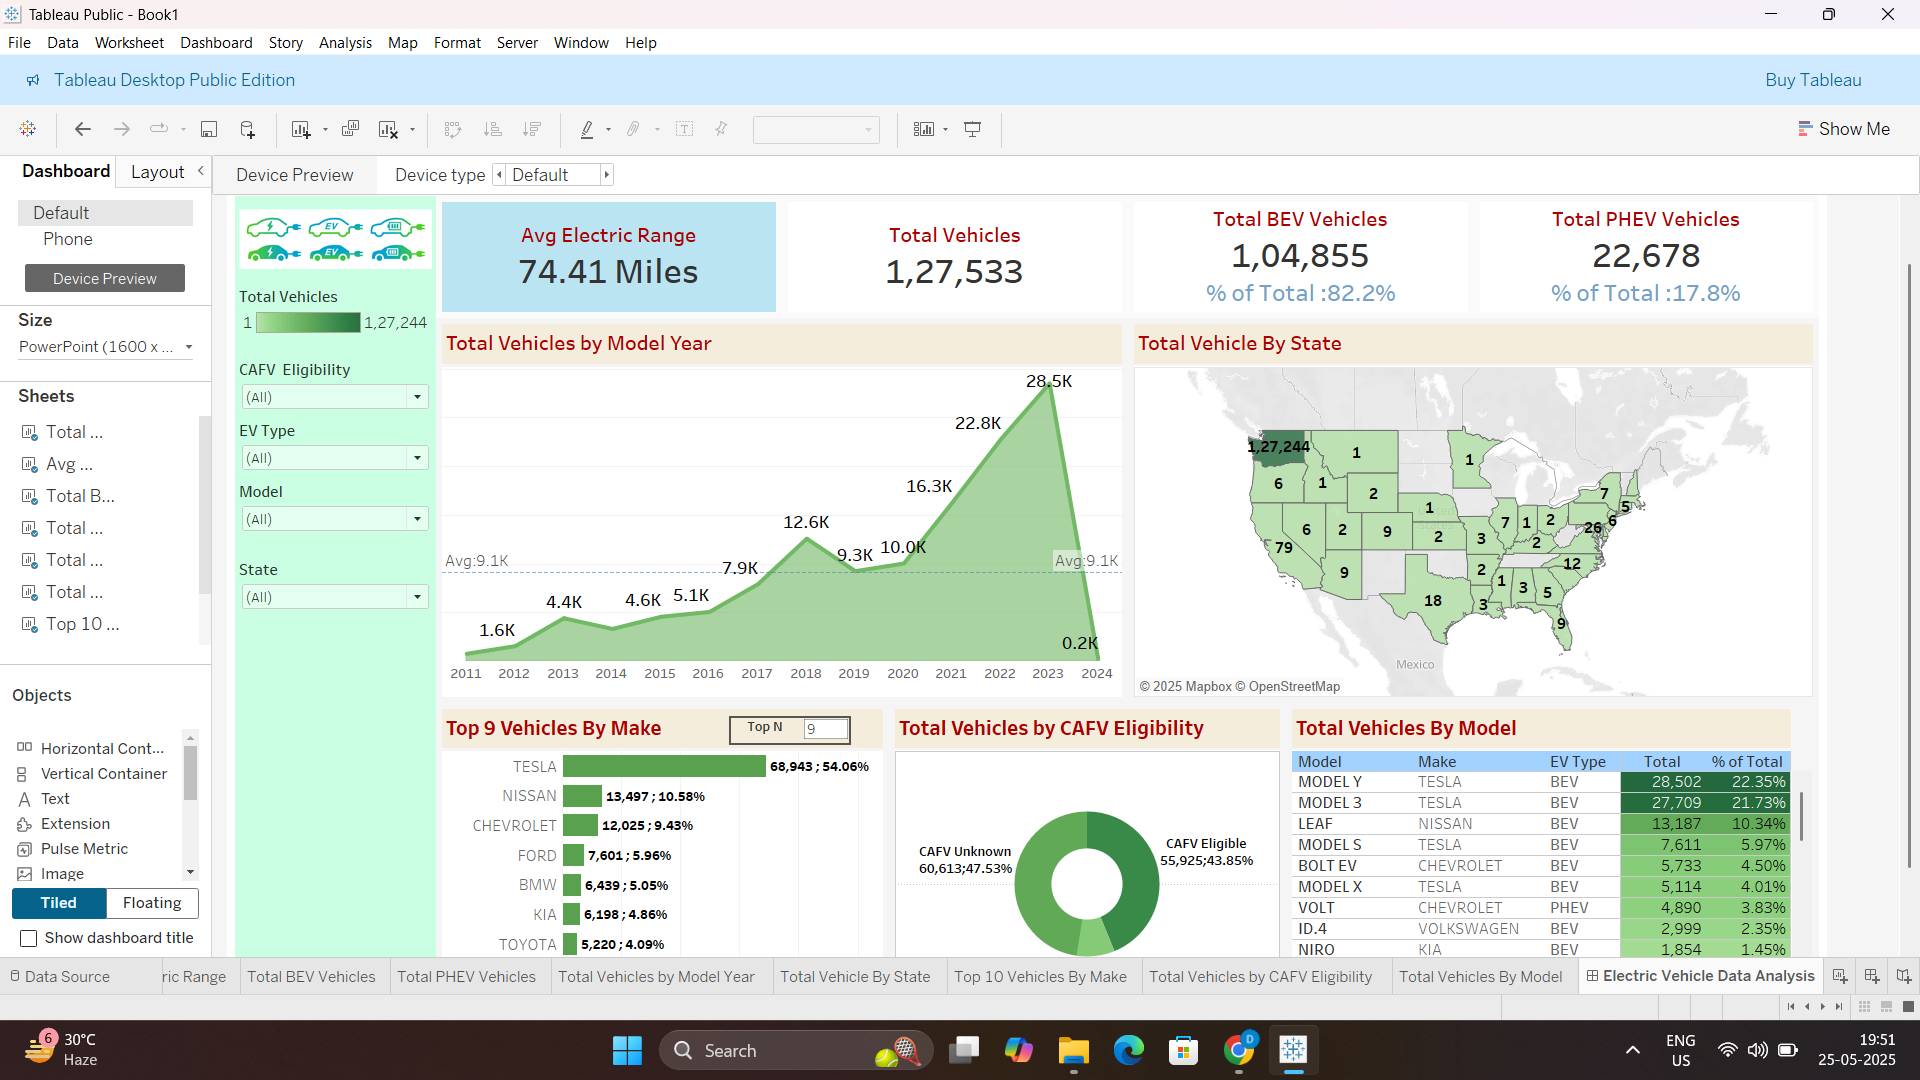

This screenshot's page, from the dashboard's own definition file:
{"tool":"tableau","page":{"name":"Electric Vehicle Data Analysis","canvas":[1600,900],"ordinal":0},"visuals":[{"type":"title","box":[8,8,1584,56]},{"type":"image","param":"C:/Users/dheer/OneDrive/Desktop/Tableau/istockphoto-[number redacted]-612x612.jpg","box":[8,64,201,86]},{"type":"worksheet","title":"Avg Electric Range","mark":"Automatic","box":[209,64,346,122]},{"type":"worksheet","title":"Total Vehicles","mark":"Automatic","box":[555,64,346,122]},{"type":"worksheet","title":"Total BEV Vehicles","mark":"Automatic","box":[901,64,346,122]},{"type":"worksheet","title":"Total PHEV Vehicles","mark":"Automatic","box":[1247,64,345,122]},{"type":"legend","title":"Total Vehicle By State","param":"[federated.1rrsky1005e82g149ebpq0dp325p].[usr:Calculation_235031671032950785:qk]","box":[8,150,201,73]},{"type":"worksheet","title":"Total Vehicles by Model Year","mark":"Area","rows":["Calculation_235031671032950785","Calculation_235031671032950785"],"cols":["Model Year"],"box":[209,186,691.5,385]},{"type":"worksheet","title":"Total Vehicle By State","mark":"Multipolygon","box":[900.5,186,691.5,385]},{"type":"filter","title":"Total Vehicles by Model Year","param":"[federated.1rrsky1005e82g149ebpq0dp325p].[none:Clean Alternative Fuel Vehicle (C","box":[8,223,201,61]},{"type":"filter","title":"Total Vehicles by Model Year","param":"[federated.1rrsky1005e82g149ebpq0dp325p].[none:Electric Vehicle Type:nk]","box":[8,284,201,61]},{"type":"filter","title":"Total Vehicles by Model Year","param":"[federated.1rrsky1005e82g149ebpq0dp325p].[none:Model:nk]","box":[8,345,201,78]},{"type":"filter","title":"Total Vehicle By State","param":"[federated.1rrsky1005e82g149ebpq0dp325p].[none:State:nk]","box":[8,423,201,61]},{"type":"blank","box":[8,484,201,68]},{"type":"blank","box":[8,552,201,68]},{"type":"worksheet","title":"Top 10 Vehicles By Make","mark":"Automatic","rows":["Make"],"cols":["Calculation_235031671032950785"],"box":[209,571,453,321]},{"type":"worksheet","title":"Total Vehicles by CAFV Eligibility","mark":"Pie","rows":["Calculation_708754057012424705","Calculation_708754057012424705"],"box":[662,571,397,321]},{"type":"worksheet","title":"Total Vehicles By Model","mark":"Square","rows":["Model","Make","Electric Vehicle Type"],"box":[1059,571,533,321]},{"type":"parameter","param":"[Parameters].[Parameter 1]","box":[502,584,122,29]},{"type":"blank","box":[8,620,201,68]},{"type":"blank","box":[8,688,201,68]},{"type":"blank","box":[8,756,201,68]},{"type":"blank","box":[8,824,201,68]}]}

Visuals, with their boxes on the page's 1600x900 design canvas (x1, y1, x2, y2). These are canvas units, not pixel positions in the 1920x1080 screenshot, which may show the page scaled, cropped or inside an application window:
title: 8, 8, 1592, 64
image: 8, 64, 209, 150
"Avg Electric Range" worksheet: 209, 64, 555, 186
"Total Vehicles" worksheet: 555, 64, 901, 186
"Total BEV Vehicles" worksheet: 901, 64, 1247, 186
"Total PHEV Vehicles" worksheet: 1247, 64, 1592, 186
"Total Vehicle By State" legend: 8, 150, 209, 223
"Total Vehicles by Model Year" worksheet (Area marks): 209, 186, 900, 571
"Total Vehicle By State" worksheet (Multipolygon marks): 900, 186, 1592, 571
"Total Vehicles by Model Year" filter: 8, 223, 209, 284
"Total Vehicles by Model Year" filter: 8, 284, 209, 345
"Total Vehicles by Model Year" filter: 8, 345, 209, 423
"Total Vehicle By State" filter: 8, 423, 209, 484
blank: 8, 484, 209, 552
blank: 8, 552, 209, 620
"Top 10 Vehicles By Make" worksheet: 209, 571, 662, 892
"Total Vehicles by CAFV Eligibility" worksheet (Pie marks): 662, 571, 1059, 892
"Total Vehicles By Model" worksheet (Square marks): 1059, 571, 1592, 892
parameter: 502, 584, 624, 613
blank: 8, 620, 209, 688
blank: 8, 688, 209, 756
blank: 8, 756, 209, 824
blank: 8, 824, 209, 892
